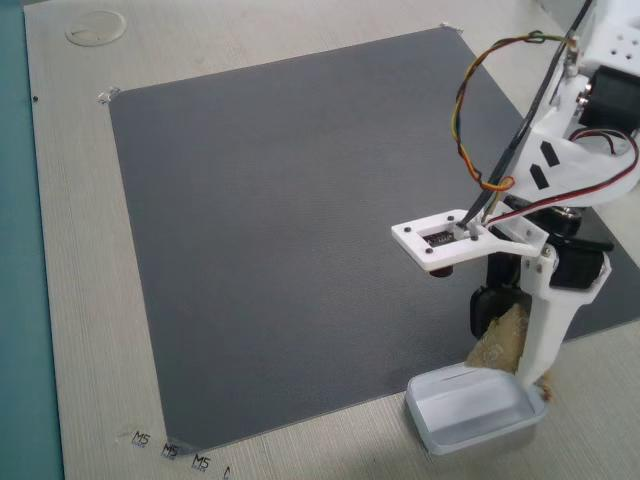gripper: (444, 210, 603, 366)
